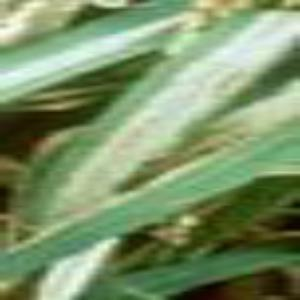Bacterial_Blight: (76, 11, 300, 180)
